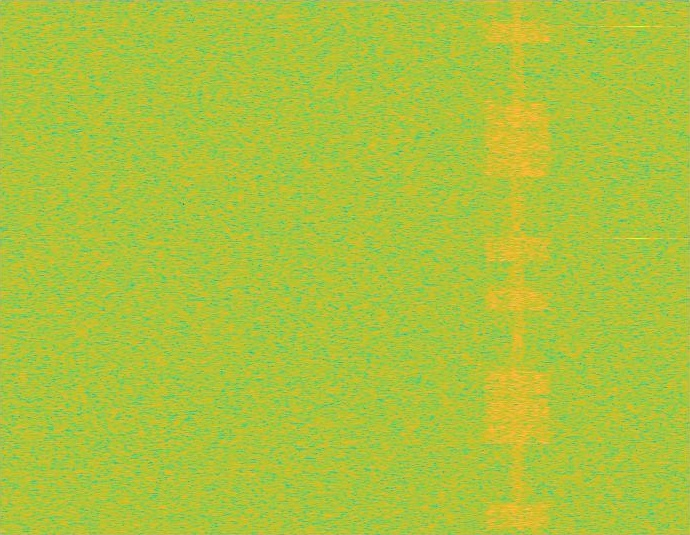DSSS: (510, 0, 525, 534)
LTE: (483, 0, 552, 534)
Radar: (631, 0, 645, 534)
